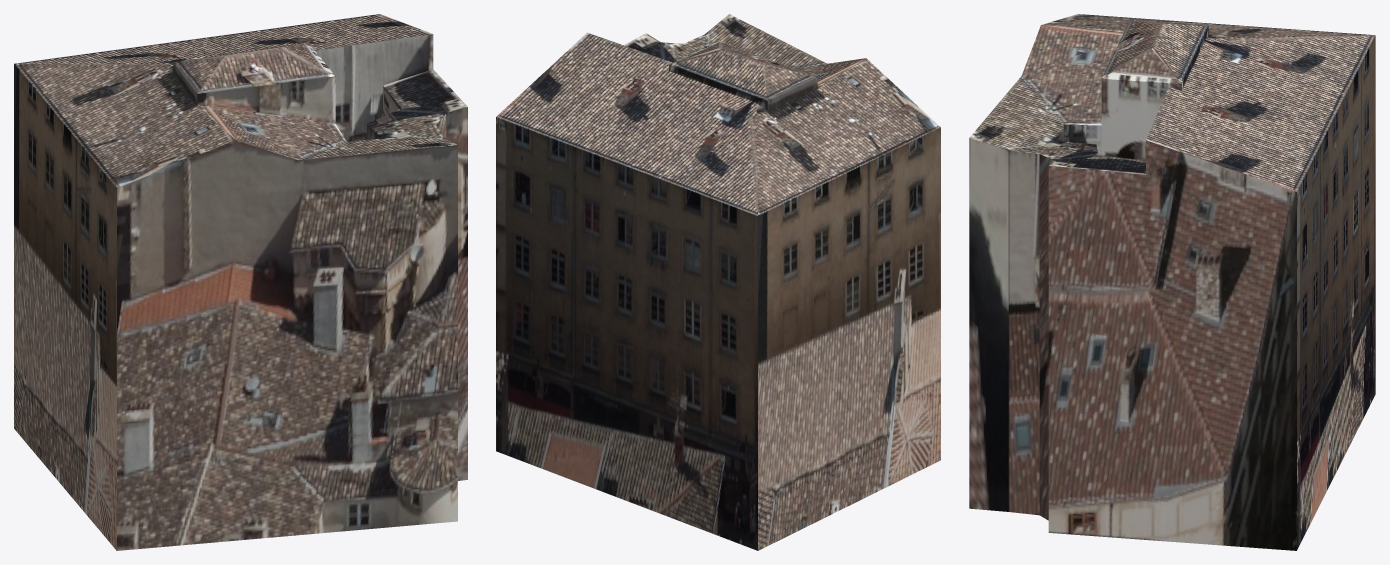
The picture shows the model from 3 angles, left to right: view 1: azimuth 30°, elevation 25°; view 2: azimuth 150°, elevation 25°; view 3: azimuth 270°, elevation 25°; orthographic projection. The views are drawn at different scales.
Visible parts, largest first — view 1: Z_UP; view 2: Z_UP; view 3: Z_UP.
Boxes of the visible parts, x1,y1,x2,y2 form: Z_UP: [14, 14, 467, 550]; Z_UP: [496, 14, 940, 550]; Z_UP: [969, 14, 1375, 550].
Size of the model in its own units: 22.94 by 25.03 by 21.91.
Materials: 2 (1 with a texture image).
